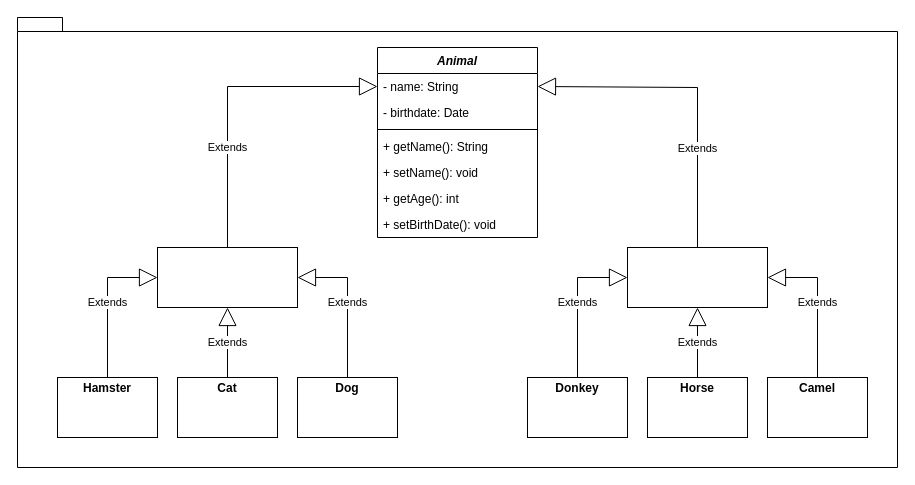
Some shapes in this 915 by 485 pixel diagram are drawn without their labels. The centre of each missing label's shape, as x and y in pixels:
PackAnimal: (x=697, y=277)
Pet: (x=227, y=277)
